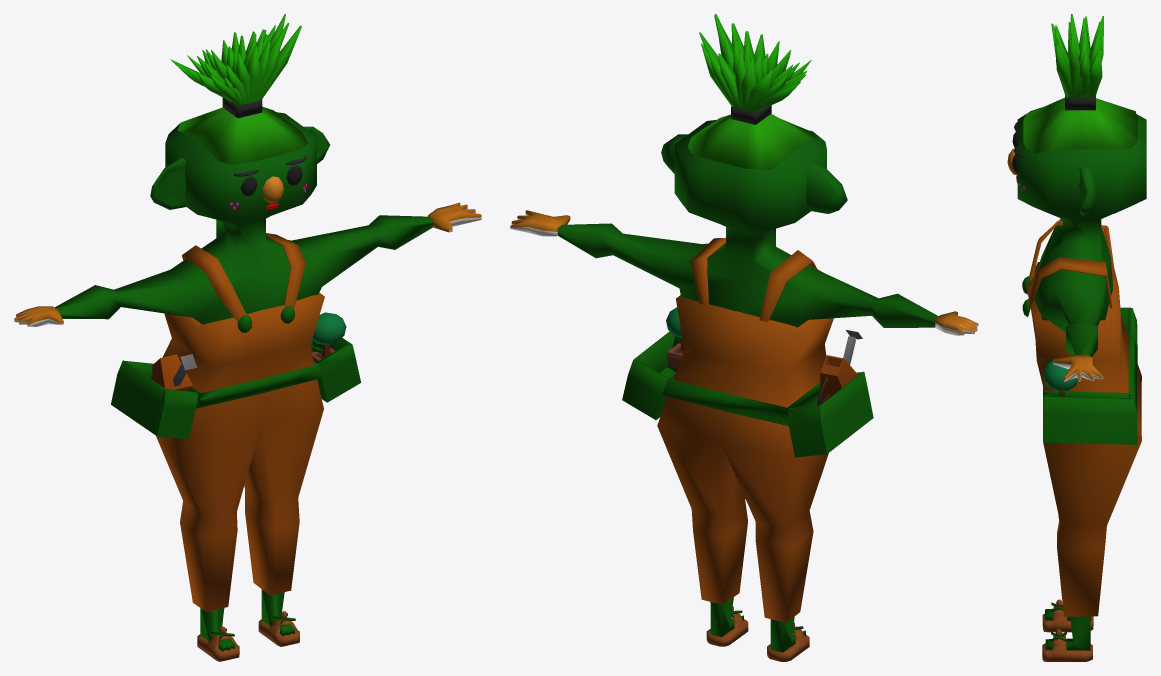
The model's file is karakter 4 bitki kadın.fbx.
The picture shows the model from 3 angles, left to right: view 1: azimuth 30°, elevation 25°; view 2: azimuth 150°, elevation 25°; view 3: azimuth 270°, elevation 25°; orthographic projection.
Parts seen in each view (by area): view 1: Cube.001; view 2: Cube.001; view 3: Cube.001.
Part boxes in pixels (x1=…): Cube.001: x1=14, y1=14, x2=481, y2=661; Cube.001: x1=510, y1=14, x2=978, y2=661; Cube.001: x1=1007, y1=14, x2=1146, y2=661.
Size of the model in its own units: 134 by 173 by 34.63.
1 material, 1 textured.
